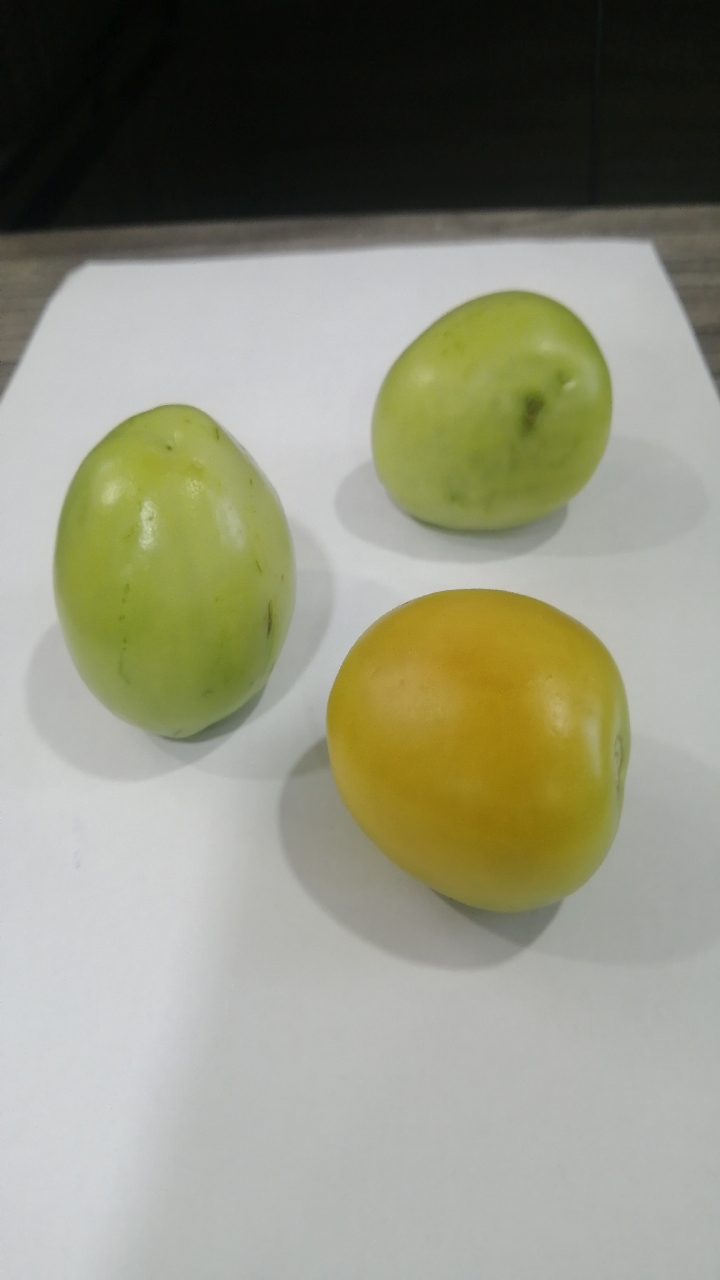tomateVerde: (294, 557, 646, 935), (28, 389, 318, 772), (355, 274, 637, 546)
